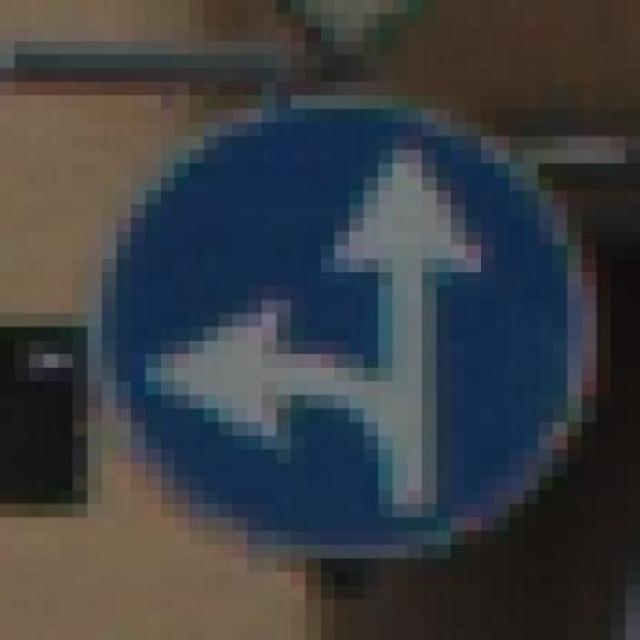Go straight or turn left: (58, 95, 612, 572)
